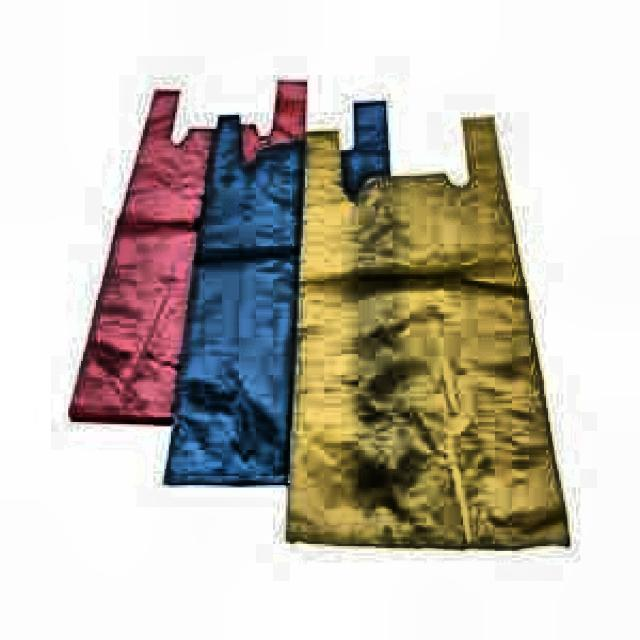Plastic: (289, 103, 596, 584), (55, 32, 332, 466), (196, 79, 414, 507)
